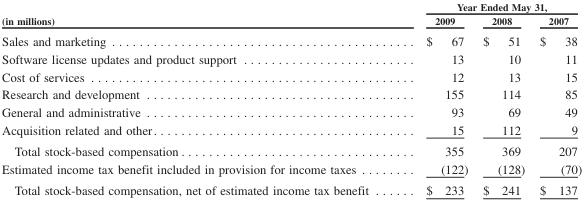table: (1, 0, 581, 197)
table column: (1, 0, 396, 197), (396, 0, 474, 197), (474, 0, 531, 197), (531, 0, 581, 197)
table column header: (1, 0, 581, 30)
table row: (1, 120, 581, 140), (1, 159, 581, 179), (1, 30, 581, 49), (1, 140, 581, 159), (1, 49, 581, 67), (1, 67, 581, 85), (1, 102, 581, 120), (1, 179, 581, 197), (1, 13, 581, 30), (1, 85, 581, 102), (1, 0, 581, 13)
table spanning cell: (1, 0, 396, 30), (396, 0, 581, 13)
